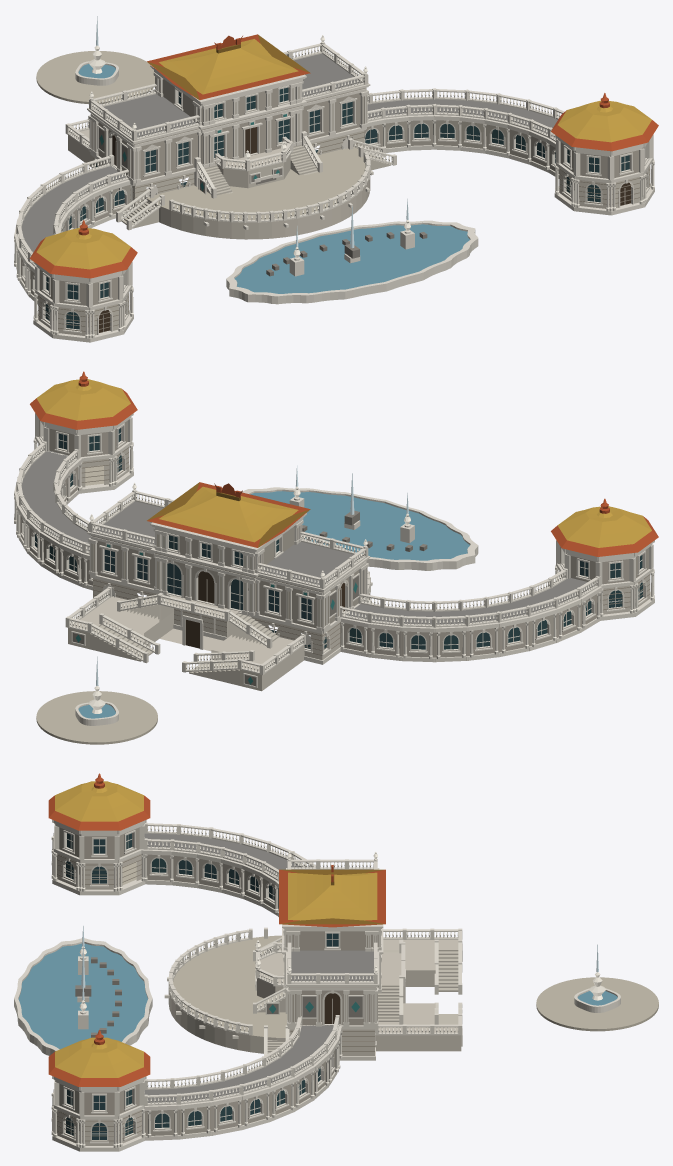
The picture shows the model from 3 angles, top to bottom: view 1: azimuth 30°, elevation 25°; view 2: azimuth 150°, elevation 25°; view 3: azimuth 270°, elevation 25°; orthographic projection.
Visible parts, largest first — view 1: XY01 谐奇趣 Xieqiqu; view 2: XY01 谐奇趣 Xieqiqu; view 3: XY01 谐奇趣 Xieqiqu.
Part boxes in pixels (bbox=[...]): XY01 谐奇趣 Xieqiqu: bbox=[14, 16, 658, 342]; XY01 谐奇趣 Xieqiqu: bbox=[14, 371, 658, 744]; XY01 谐奇趣 Xieqiqu: bbox=[14, 773, 658, 1151].
Bounding box in the file's own units: 72.16 × 15.9 × 65.71.
